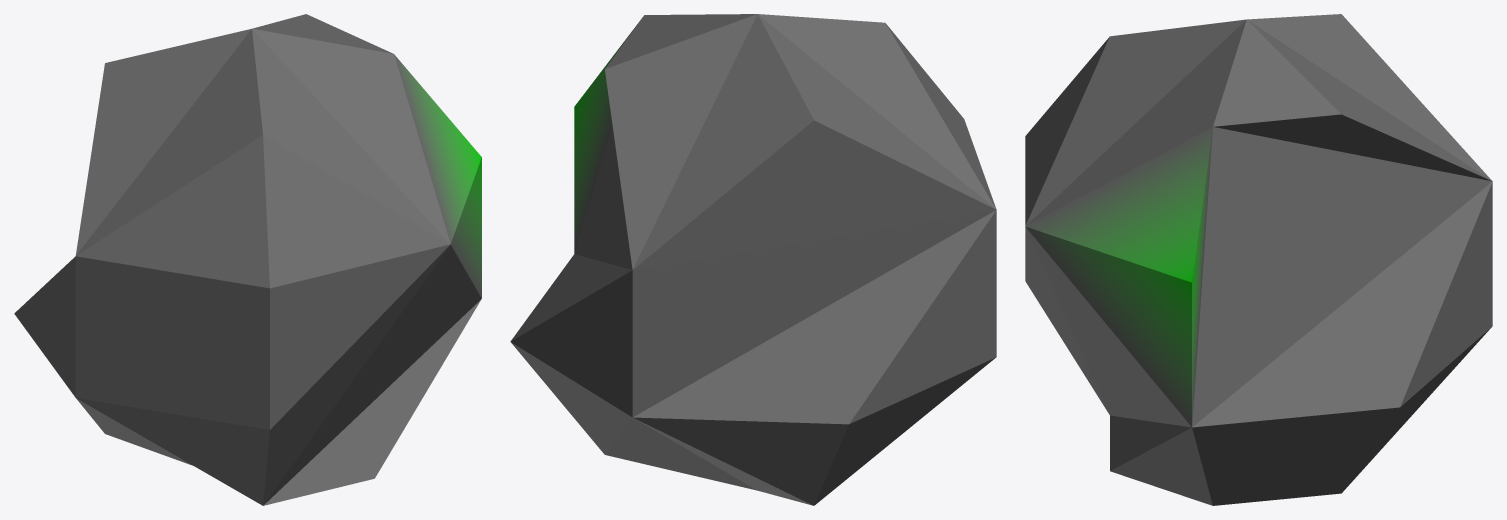
File: before_cleaning_conquest_0.obj
3 renders of one model, left to right at view 1: azimuth 30°, elevation 25°; view 2: azimuth 150°, elevation 25°; view 3: azimuth 270°, elevation 25°, orthographic. The views are drawn at different scales.
Size of the model in its own units: 1.85 by 2 by 1.81.
